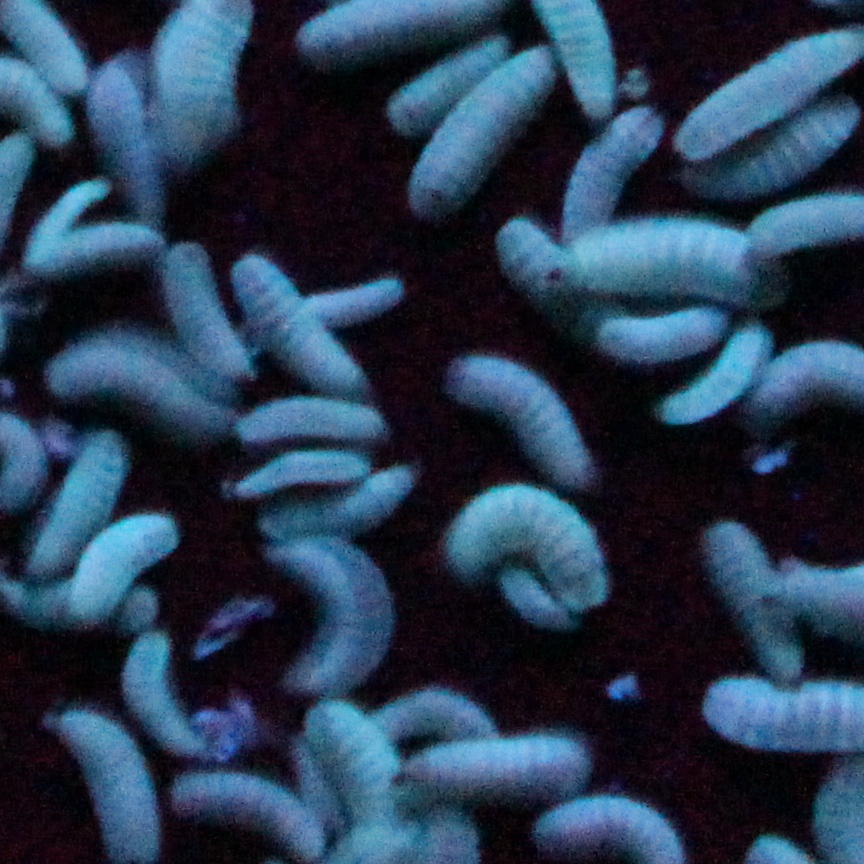larve: (449, 482, 624, 614), (692, 507, 814, 687), (226, 246, 371, 396), (274, 530, 394, 703), (458, 346, 596, 496), (42, 705, 167, 859), (551, 225, 767, 309), (74, 50, 176, 214), (19, 434, 135, 578), (51, 332, 219, 430), (162, 241, 258, 396), (171, 768, 326, 857), (62, 509, 187, 614), (119, 628, 214, 766), (651, 325, 771, 430), (403, 732, 592, 798), (380, 46, 508, 134), (687, 116, 858, 180), (564, 100, 655, 218), (224, 450, 374, 507), (228, 393, 392, 443), (494, 212, 585, 298), (589, 312, 739, 362), (28, 189, 114, 255), (499, 566, 578, 637), (296, 275, 417, 321), (301, 473, 419, 518), (51, 223, 162, 262)
